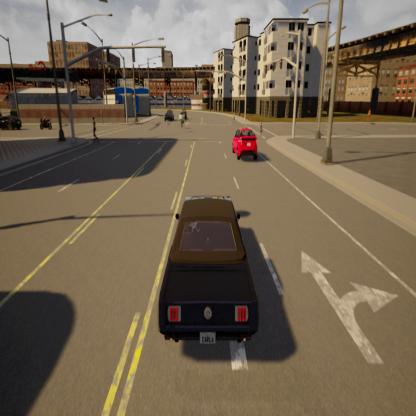Cars: (156, 196, 259, 348), (231, 128, 259, 166), (0, 111, 22, 137), (38, 113, 54, 130)
Pedestrian: (90, 112, 98, 144), (259, 119, 263, 136)
